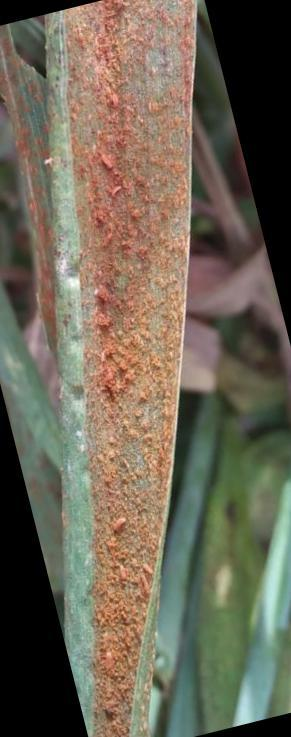Wheat: (70, 15, 186, 128), (77, 143, 182, 250), (88, 391, 161, 533), (85, 264, 172, 378), (88, 543, 135, 732)
